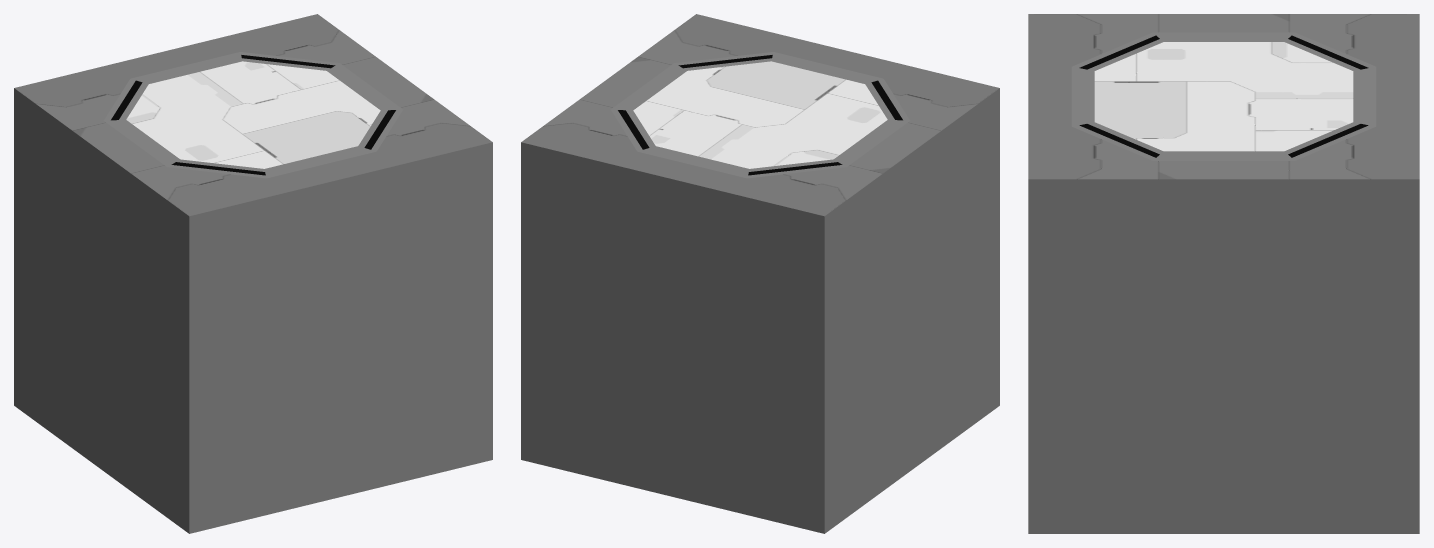
The model's file is SM_Floor_5x5_1.fbx.
The picture shows the model from 3 angles, left to right: view 1: azimuth 30°, elevation 25°; view 2: azimuth 150°, elevation 25°; view 3: azimuth 270°, elevation 25°; orthographic projection. The views are drawn at different scales.
Parts seen in each view (by area): view 1: SM_Floor_5x5_1; view 2: SM_Floor_5x5_1; view 3: SM_Floor_5x5_1.
Part boxes in pixels (x1,y1,x2,y2): SM_Floor_5x5_1: [14, 14, 492, 533]; SM_Floor_5x5_1: [521, 14, 999, 533]; SM_Floor_5x5_1: [1028, 14, 1419, 533].
Bounding box in the file's own units: 500 × 500 × 500.
